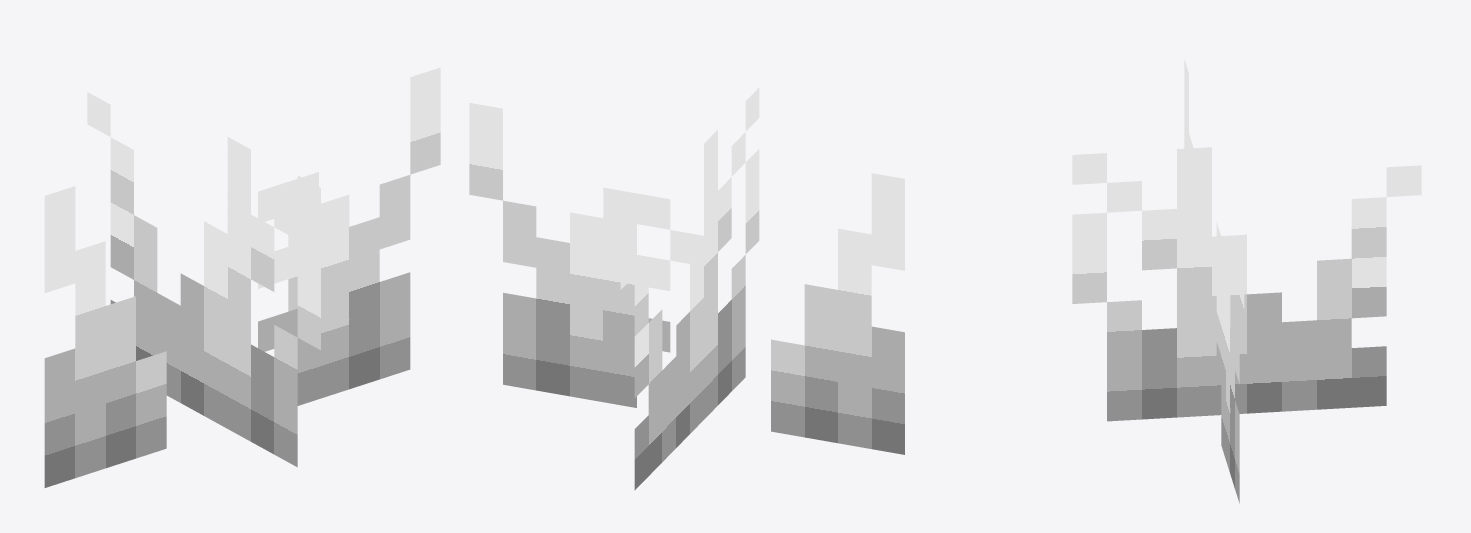
Rendered from grass_a.glb.
The picture shows the model from 3 angles, left to right: view 1: azimuth 30°, elevation 25°; view 2: azimuth 150°, elevation 25°; view 3: azimuth 270°, elevation 25°; orthographic projection. The views are drawn at different scales.
Visible parts, largest first — view 1: grass_a; view 2: grass_a; view 3: grass_a.
Boxes of the visible parts, x1,y1,x2,y2 form: grass_a: (44, 67, 440, 487); grass_a: (469, 87, 904, 490); grass_a: (1072, 59, 1421, 503).
Bounding box in the file's own units: 0.4461 × 0.3 × 0.4461.
1 material, 1 textured.
